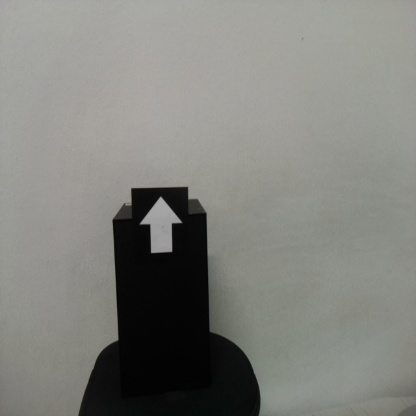id_1: (130, 187, 190, 269)
